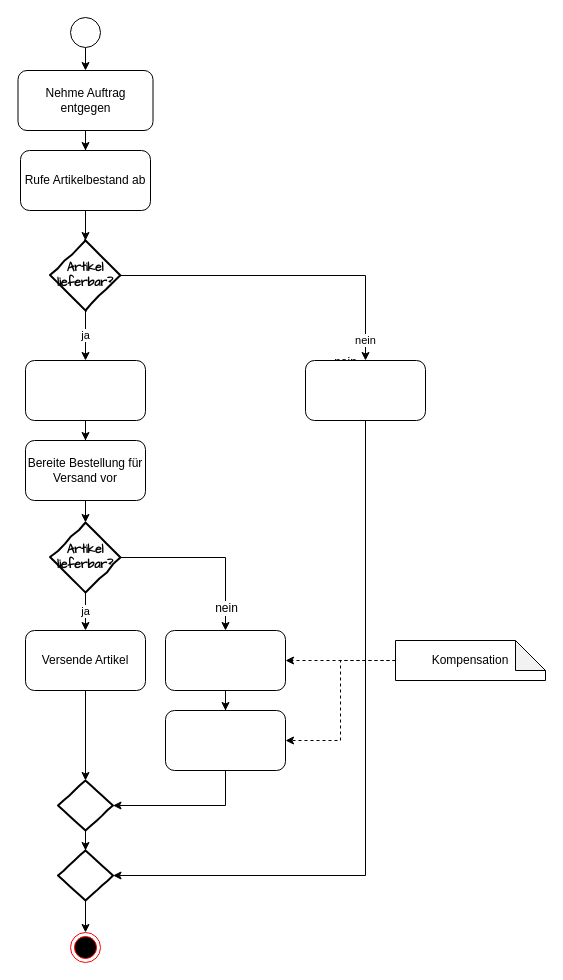
This 563x980 diagram has some shape labels left out. The centre of each missing label's shape, as x and y in pixels:
Lehne Bestellung ab: point (365, 390)
Löse Bestellung aus: point (85, 390)
Sende Gutschein: point (225, 740)
Storniere Bestellung: point (225, 660)
